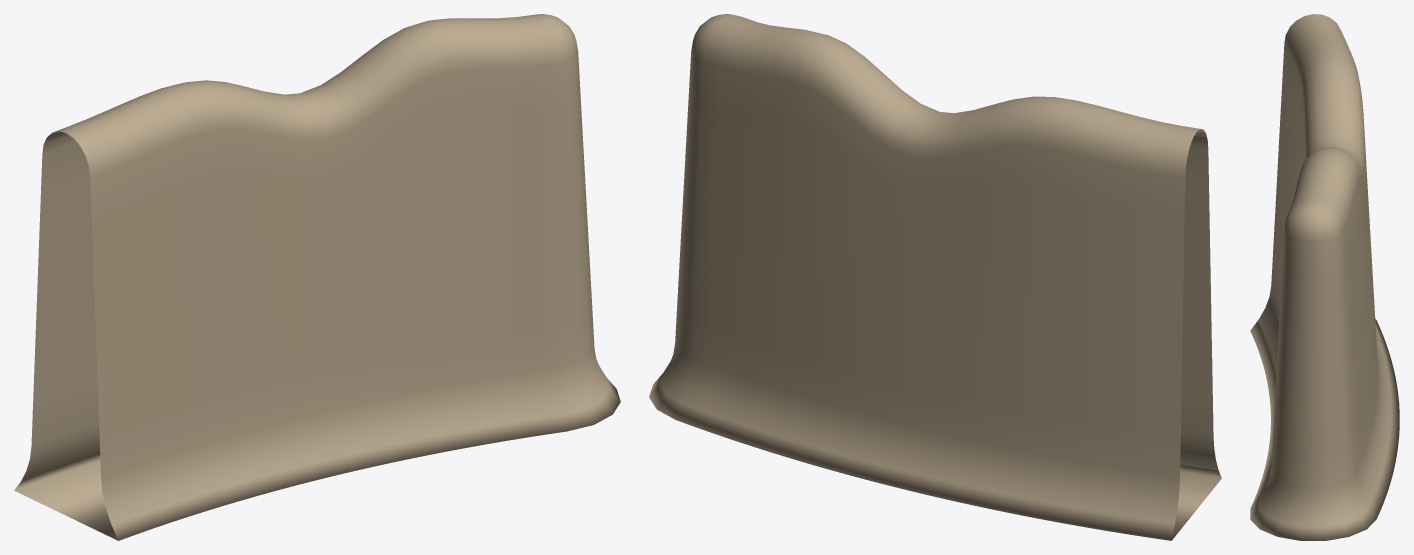
The model's file is KFB_Wall_curved_ring_r3_capA.r3.glb.
3 views of the same model, side by side, from view 1: azimuth 30°, elevation 25°; view 2: azimuth 150°, elevation 25°; view 3: azimuth 270°, elevation 25° (orthographic). The views are drawn at different scales.
Visible parts, largest first — view 1: KFB_Wall_curved_ring_r3_capA; view 2: KFB_Wall_curved_ring_r3_capA; view 3: KFB_Wall_curved_ring_r3_capA.
Part boxes in pixels (x1,y1,x2,y2): KFB_Wall_curved_ring_r3_capA: [14, 14, 620, 540]; KFB_Wall_curved_ring_r3_capA: [649, 14, 1221, 540]; KFB_Wall_curved_ring_r3_capA: [1250, 14, 1399, 540].
Size of the model in its own units: 5.48 by 3.71 by 1.57.
